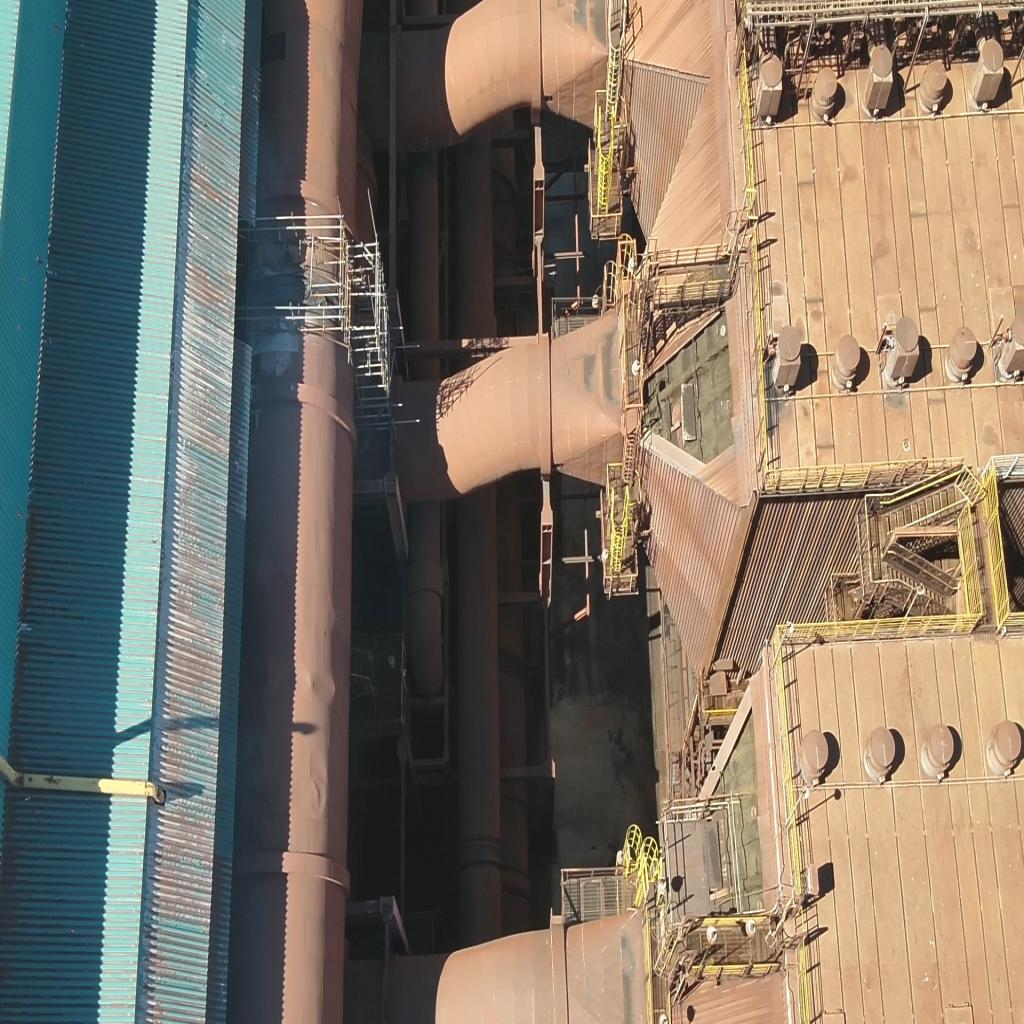Failures: (699, 714, 760, 940), (649, 306, 733, 464)
